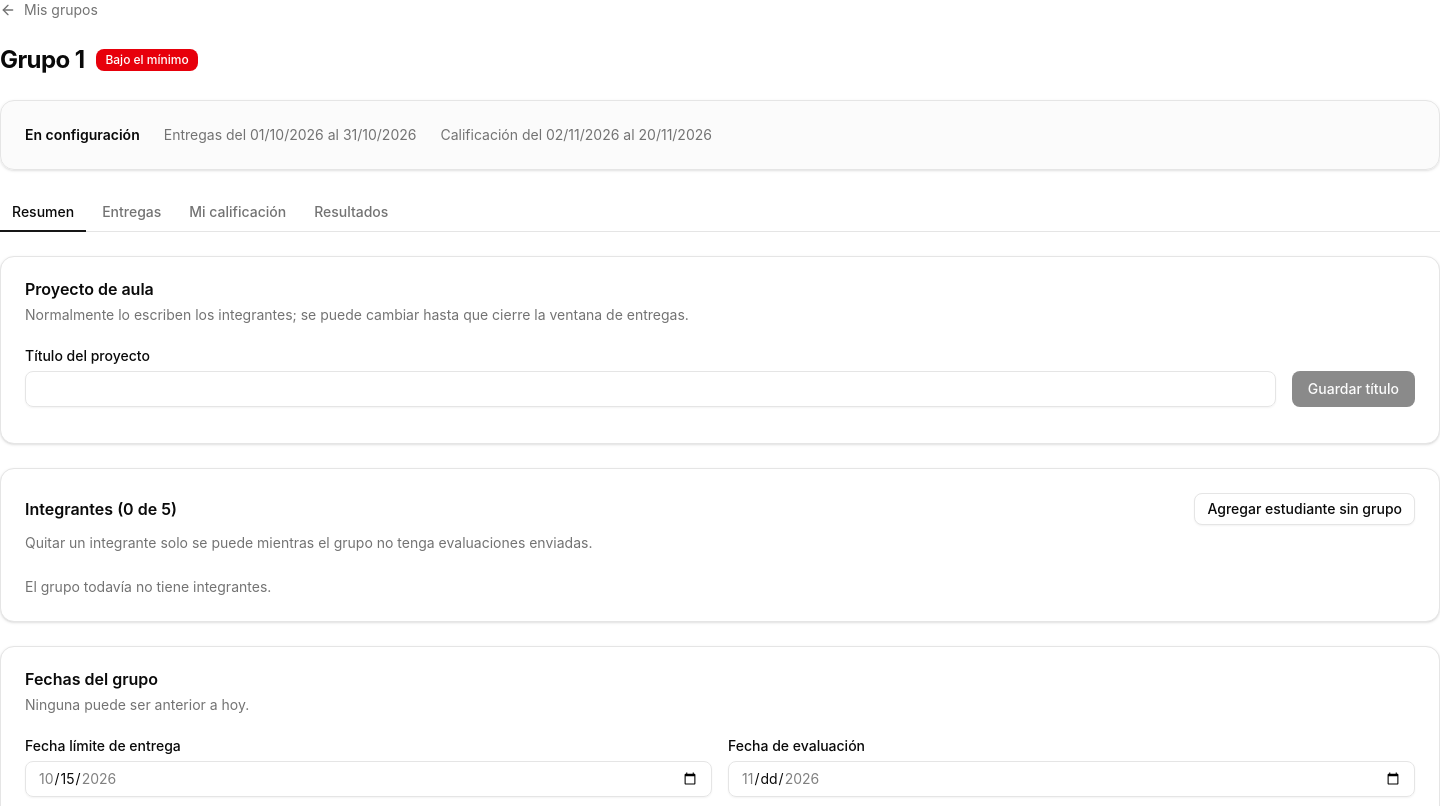
Test: GroupDetailPage › saves only the dates that changed
The width and height of the screenshot is (1440, 806).
Type "2026-11-10" into the date field labelled "Fecha de evaluación" at (1072, 779), box [728,761,1415,797]
(page scrolled)
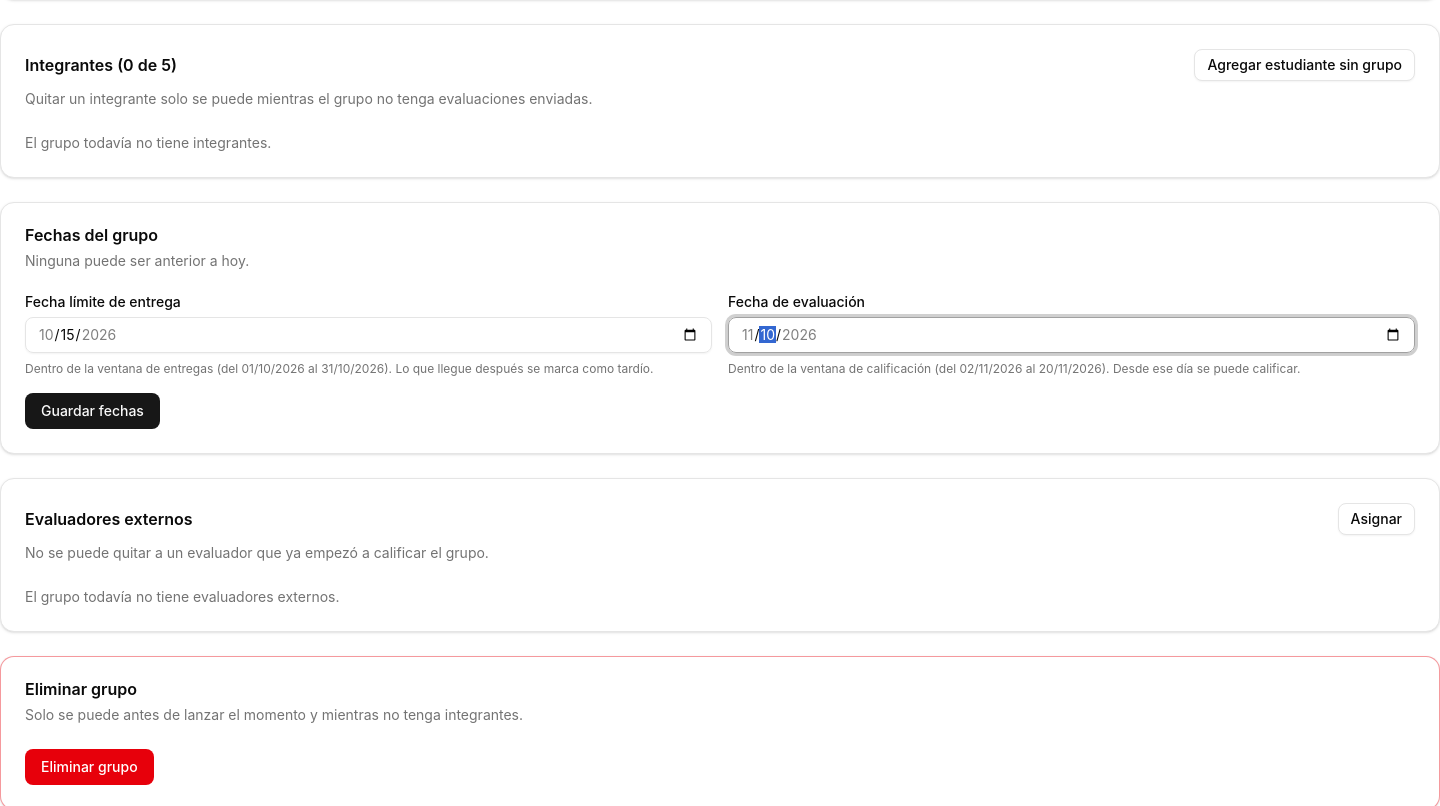
Click the button "Guardar fechas" at (92, 411), box [25,393,160,429]
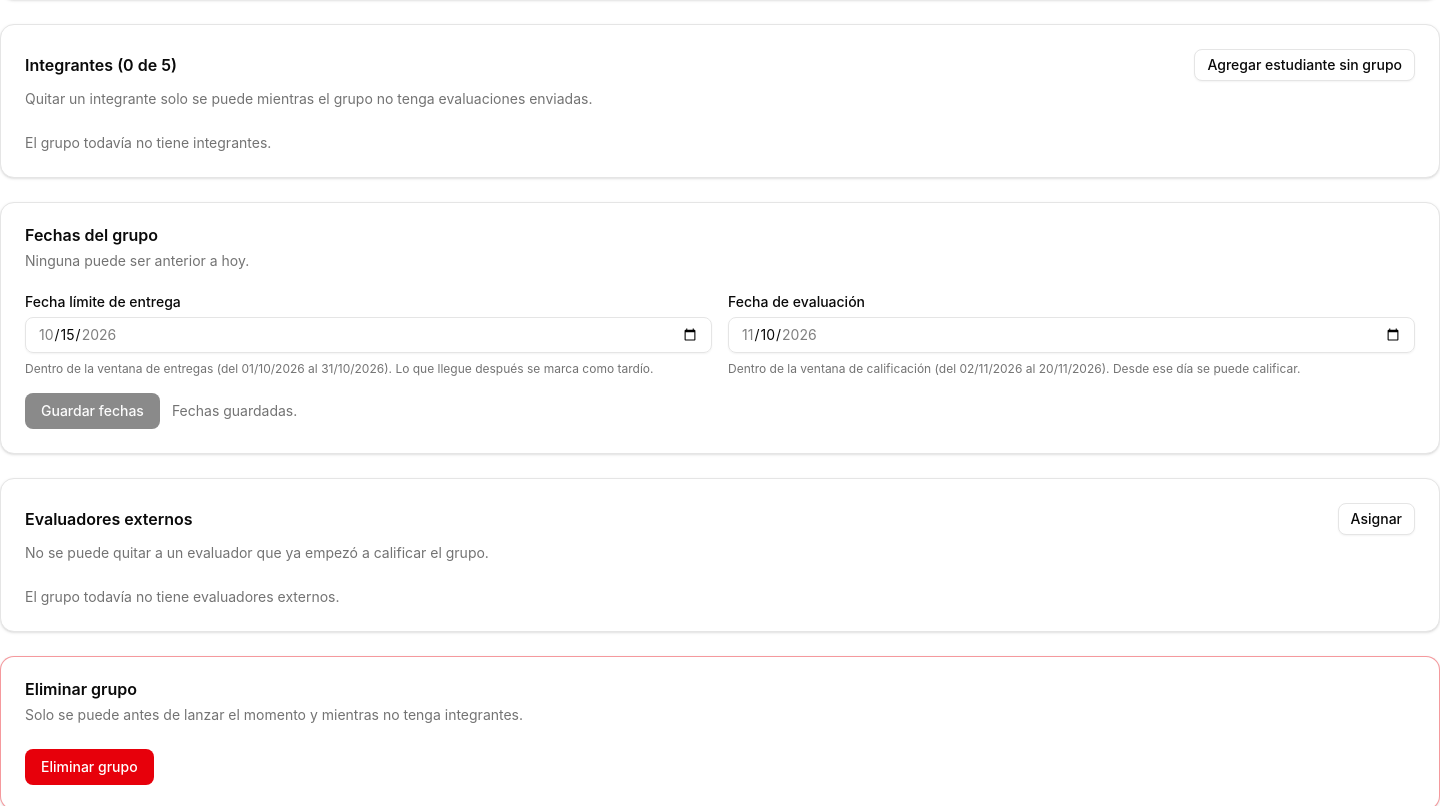
Expected: the text "Fechas guardadas." is shown, [172,401,297,421]
